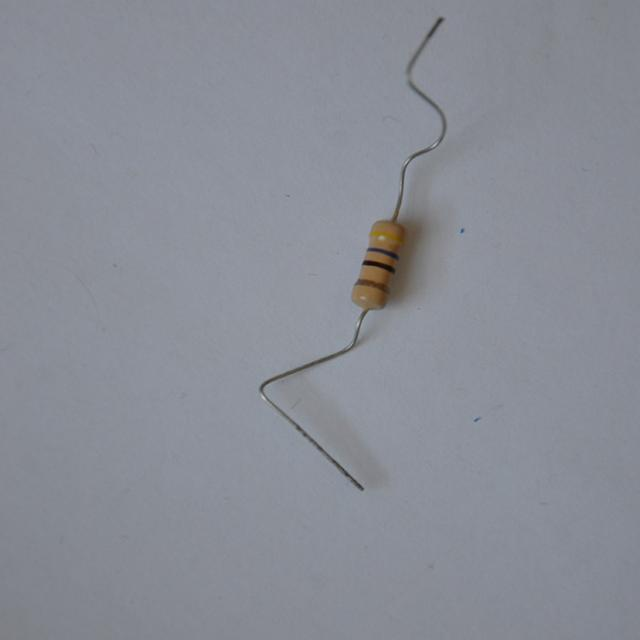brown: (365, 259, 394, 272)
gold: (358, 279, 388, 288)
resistor: (343, 211, 417, 328)
violet: (368, 247, 397, 258)
yellow: (370, 230, 400, 240)
